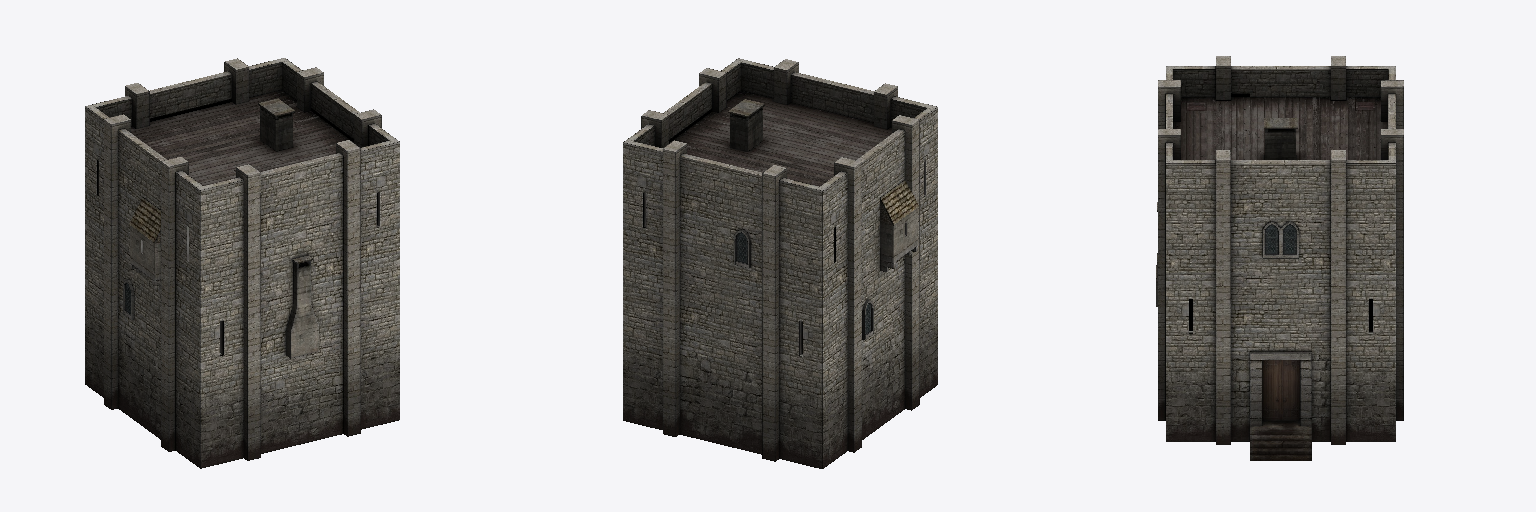
3 views of the same model, side by side, from view 1: azimuth 30°, elevation 25°; view 2: azimuth 150°, elevation 25°; view 3: azimuth 270°, elevation 25° (orthographic).
Visible parts, largest first — view 1: tower; view 2: tower; view 3: tower.
Part boxes in pixels (left/top/right/bottom): tower: left=85, top=58, right=399, bottom=468; tower: left=623, top=58, right=937, bottom=468; tower: left=1156, top=56, right=1403, bottom=460.
Size of the model in its own units: 56.39 by 61.01 by 47.65.
Materials: 1 (1 with a texture image).